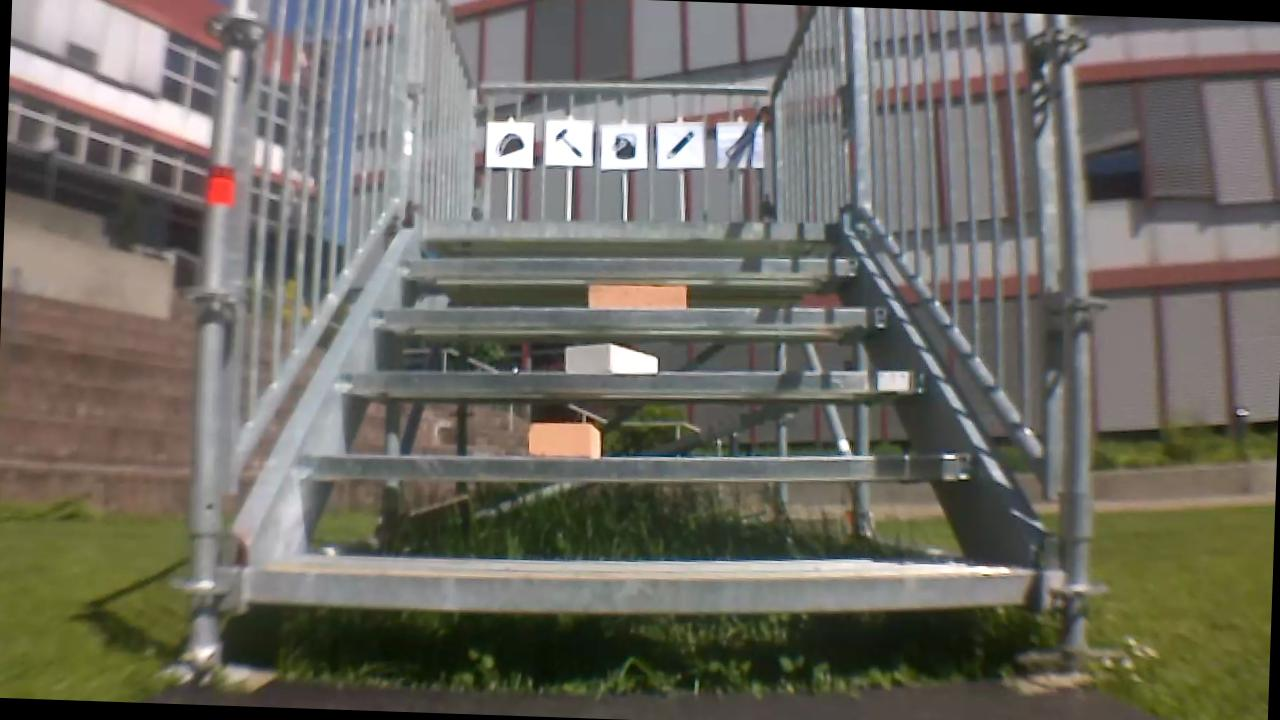brick: (582, 280, 685, 317), (520, 417, 605, 461), (563, 340, 662, 377)
edge: (251, 546, 1046, 637), (293, 424, 986, 505), (337, 346, 934, 417), (353, 288, 891, 350), (395, 244, 858, 296), (411, 206, 841, 258)
steps: (215, 194, 1045, 638)
